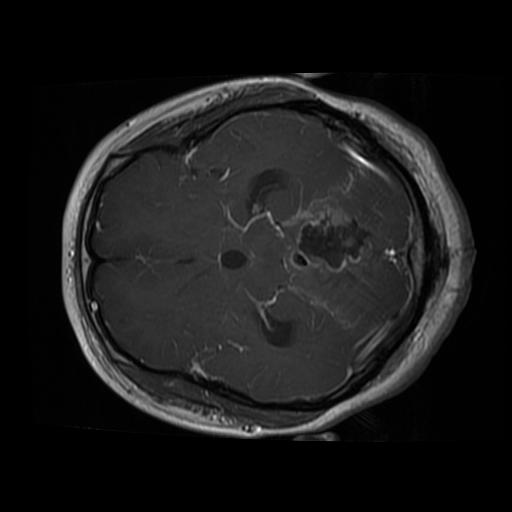glioma: (285, 192, 372, 277)
